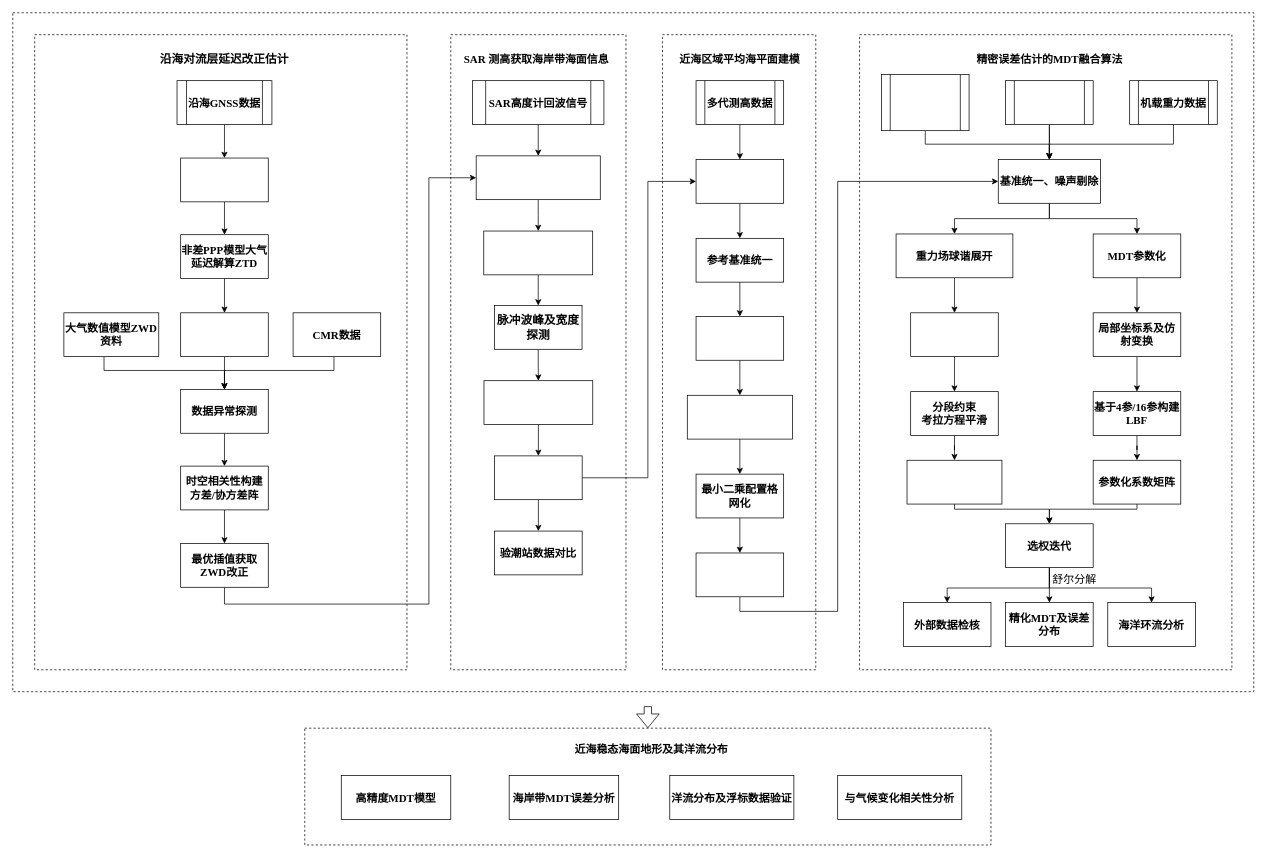
Image size: 1267x858. Some labels were removed from this diagram. The shapes that lost their labels are listed below. From the top down, each one's centre as x and y in pixels, then its label:
(x=925, y=102): 传统测高数据 验潮站数据 ……
(x=1049, y=102): GOCE重力场模型
(x=224, y=179): 多参数估计及随机误差估计
(x=537, y=177): 地球物理学改正
(x=739, y=181): 数据筛选、剔除
(x=538, y=252): 二阶 Bessel 函数拟合
(x=224, y=334): ECMWF ZHD资料分离ZWD结果
(x=739, y=338): 时变及周期改正
(x=954, y=334): 累积误差分析 频谱分割 CS1,CS2,CS3,CS4
(x=538, y=402): Retracking
(x=739, y=417): 共线、交叉点平差
(x=538, y=477): 海面有效波高
(x=954, y=482): 随机误差建模 遗漏误差建模 全方差协方差函数
(x=739, y=574): 平均海平面模型
